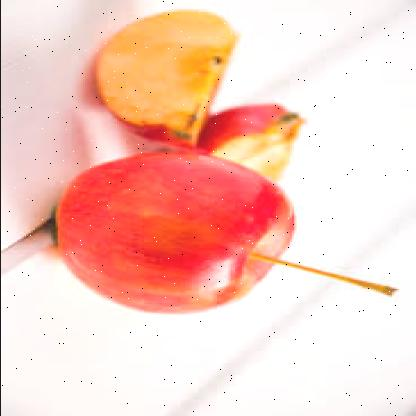apple: (55, 165, 291, 310)
